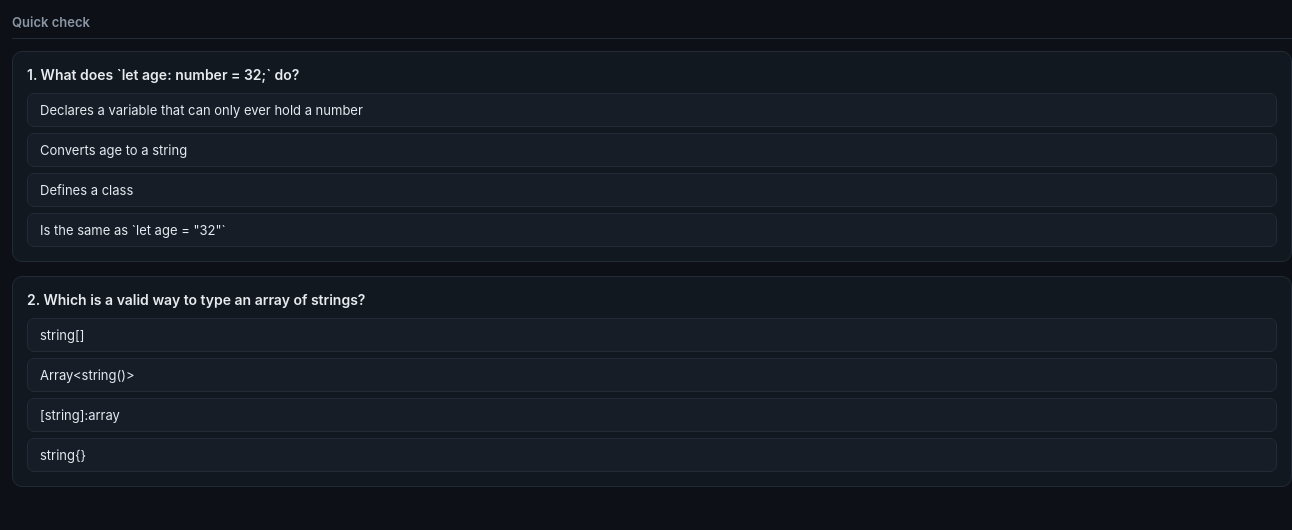
Test case: QuizSection › shows correct/incorrect feedback after an answer is chosen
Click the button "Declares a variable that can only ever hold a number".
click(201, 110)  # box x1=27 y1=93 x2=1277 y2=127
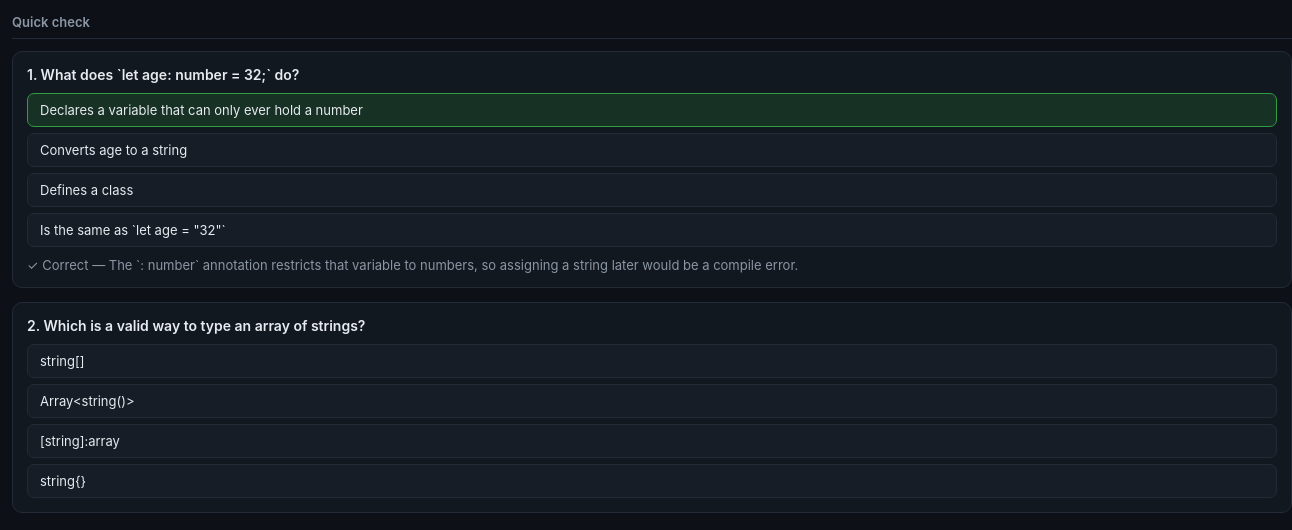
Now the message is shown, box x1=27 y1=257 x2=798 y2=273
